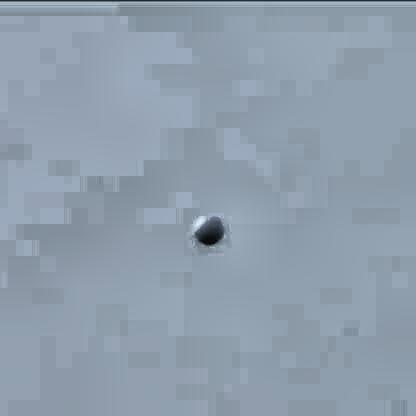golfball: (192, 209, 222, 240)
